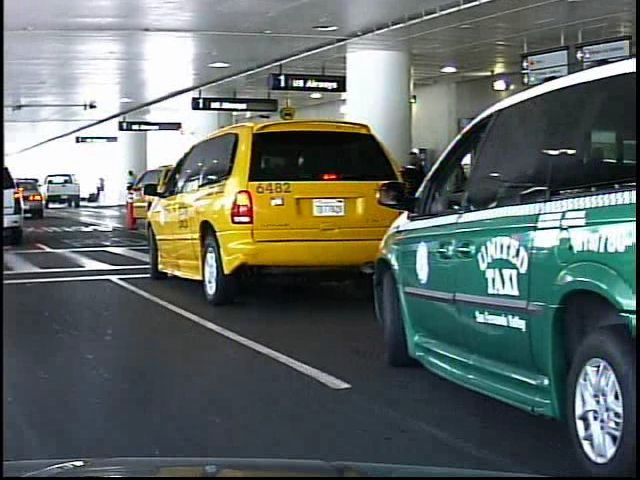person: (120, 169, 135, 208)
